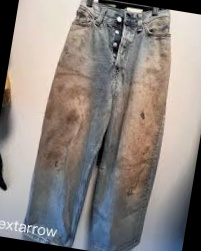earth: (120, 70, 165, 185), (42, 71, 88, 152)
